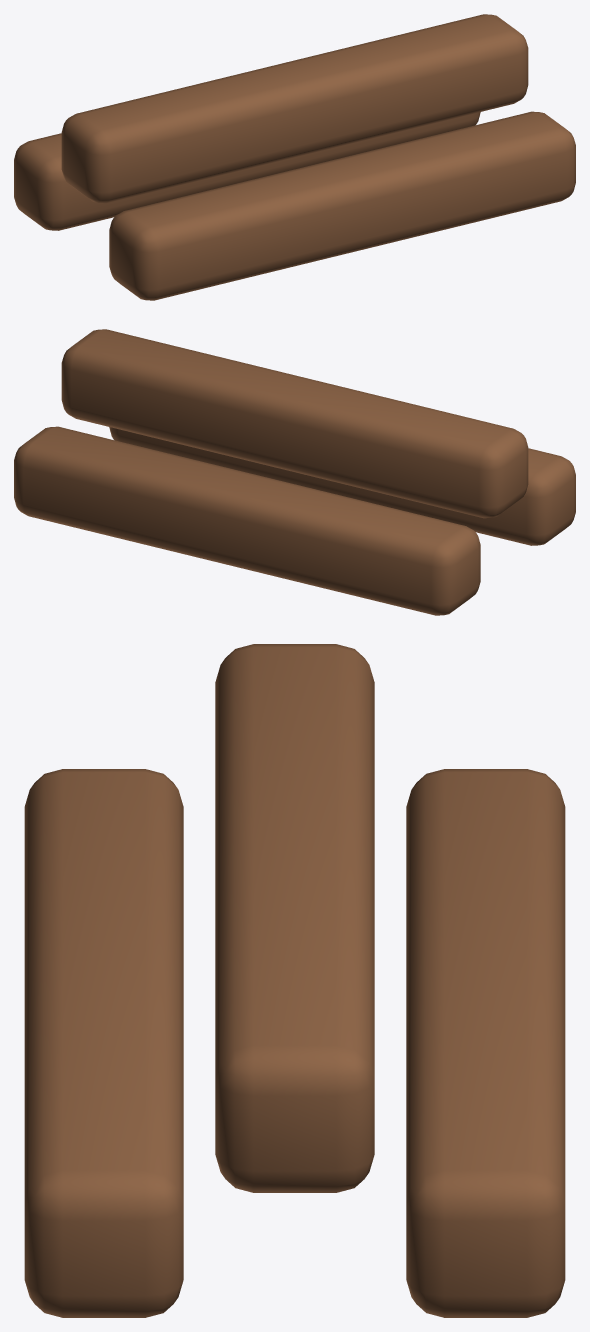
The model's file is SM_WoodBundle.glb.
The picture shows the model from 3 angles, top to bottom: view 1: azimuth 30°, elevation 25°; view 2: azimuth 150°, elevation 25°; view 3: azimuth 270°, elevation 25°; orthographic projection. The views are drawn at different scales.
Visible parts, largest first — view 1: SM_WoodBundle; view 2: SM_WoodBundle; view 3: SM_WoodBundle.
Boxes of the visible parts, bbox=[...] form: SM_WoodBundle: bbox=[14, 14, 575, 300]; SM_WoodBundle: bbox=[14, 329, 575, 615]; SM_WoodBundle: bbox=[24, 644, 565, 1317].
Size of the model in its own units: 0.48 by 0.14 by 0.255.
